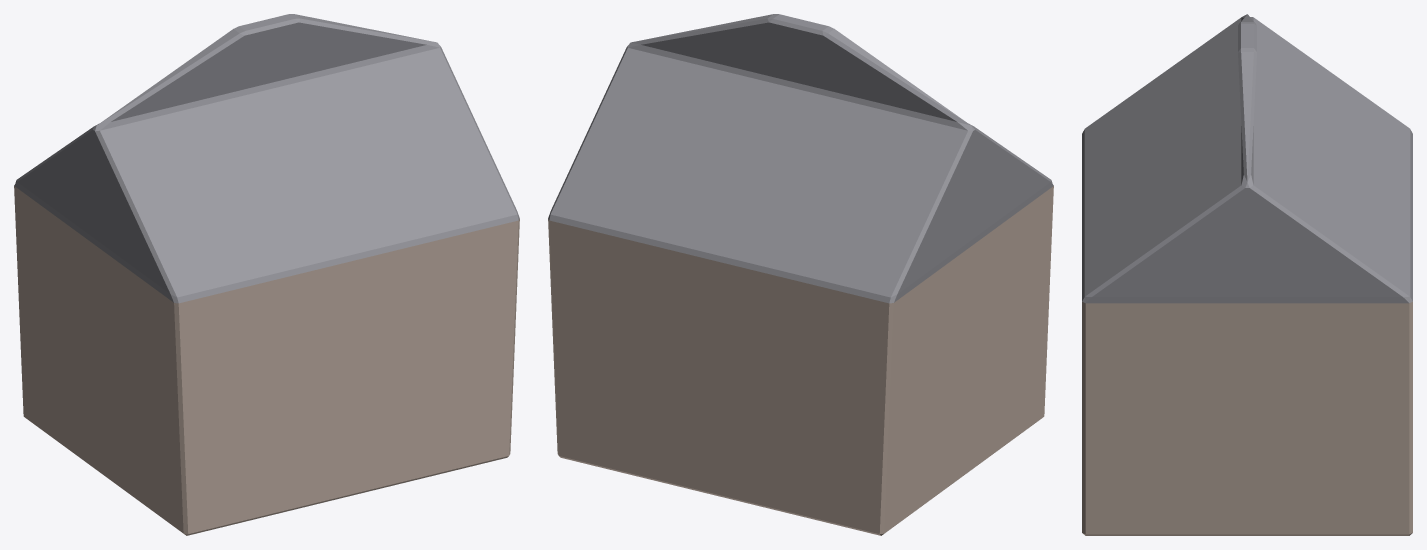
Rendered from town_terrace_2.glb.
3 renders of one model, left to right at view 1: azimuth 30°, elevation 25°; view 2: azimuth 150°, elevation 25°; view 3: azimuth 270°, elevation 25°, orthographic.
Visible parts, largest first — view 1: terrace; view 2: terrace; view 3: terrace.
Boxes of the visible parts, <box> form: terrace: <box>14,14,519,535</box>; terrace: <box>548,14,1053,535</box>; terrace: <box>1082,14,1412,535</box>.
Size of the model in its own units: 0.318 by 0.365 by 0.26.
